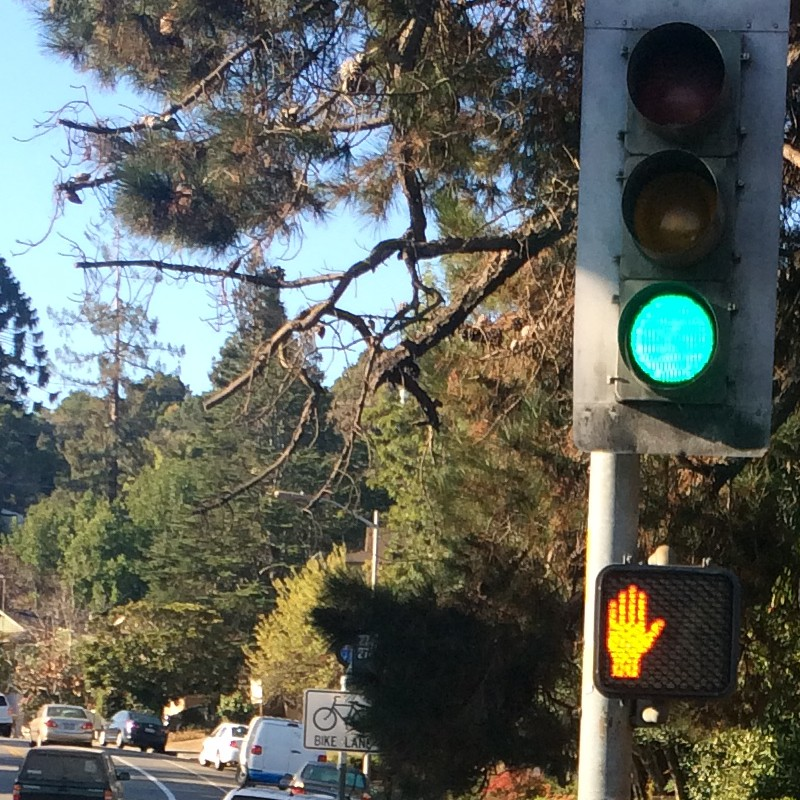stop: (590, 568, 744, 703)
